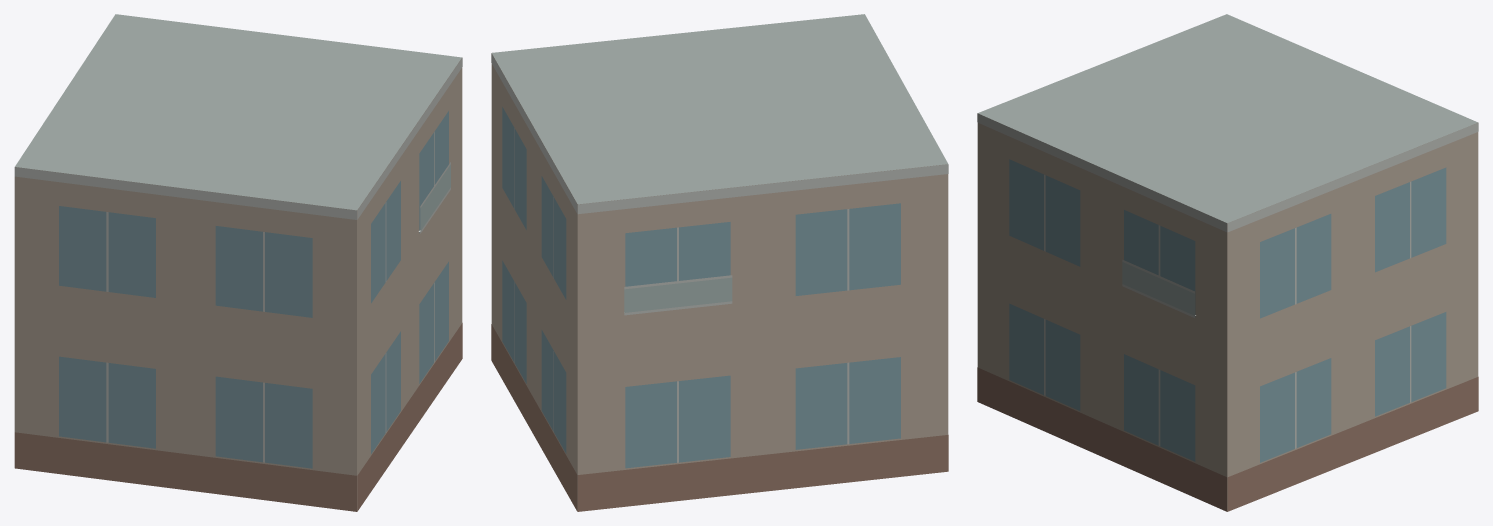
Rendered from survey-upis-32998096.glb.
3 views of the same model, side by side, from view 1: azimuth 30°, elevation 25°; view 2: azimuth 150°, elevation 25°; view 3: azimuth 270°, elevation 25° (orthographic). The views are drawn at different scales.
Parts seen in each view (by area): view 1: survey-upis-32998096.tmp; view 2: survey-upis-32998096.tmp; view 3: survey-upis-32998096.tmp.
Boxes of the visible parts, x1,y1,x2,y2 form: survey-upis-32998096.tmp: (14, 14, 462, 511); survey-upis-32998096.tmp: (491, 14, 948, 511); survey-upis-32998096.tmp: (977, 14, 1478, 511).
Bounding box in the file's own units: 11.82 × 7.6 × 11.96.
